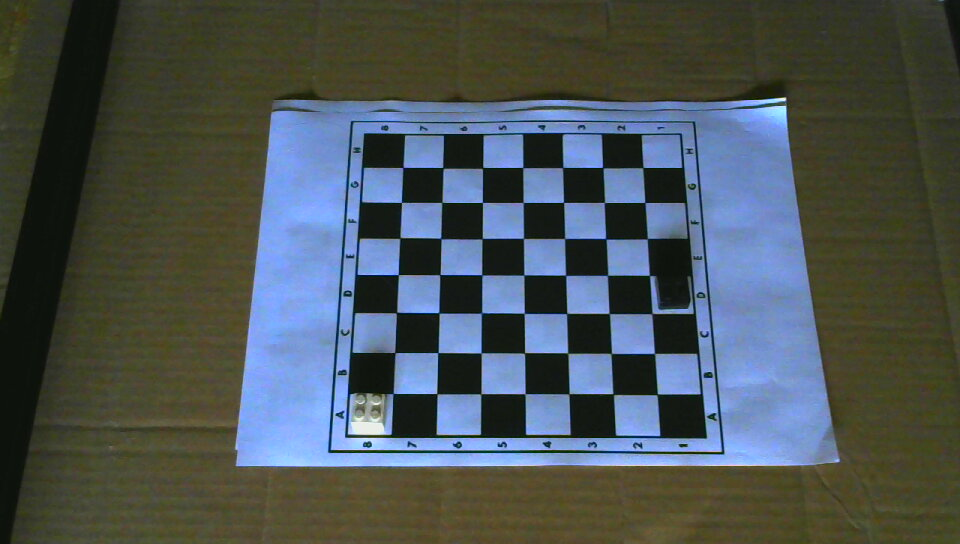bp: (652, 268, 691, 310)
wp: (350, 389, 387, 434)
